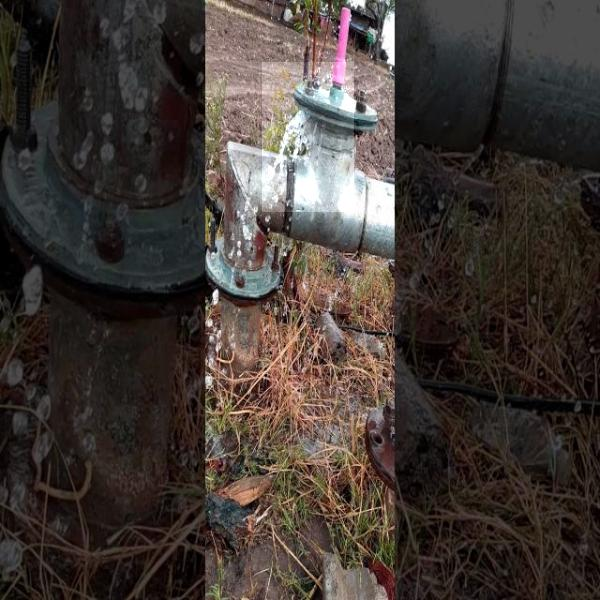leak: (262, 62, 354, 212)
